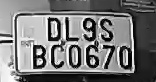0: (117, 45, 133, 73), (67, 44, 83, 71)
6: (84, 45, 99, 70)
7: (100, 42, 116, 73)
9: (83, 19, 100, 44)
B: (30, 42, 48, 71)
C: (49, 44, 67, 71)
D: (46, 18, 61, 43)
L: (64, 19, 79, 44)
S: (97, 17, 113, 44)
